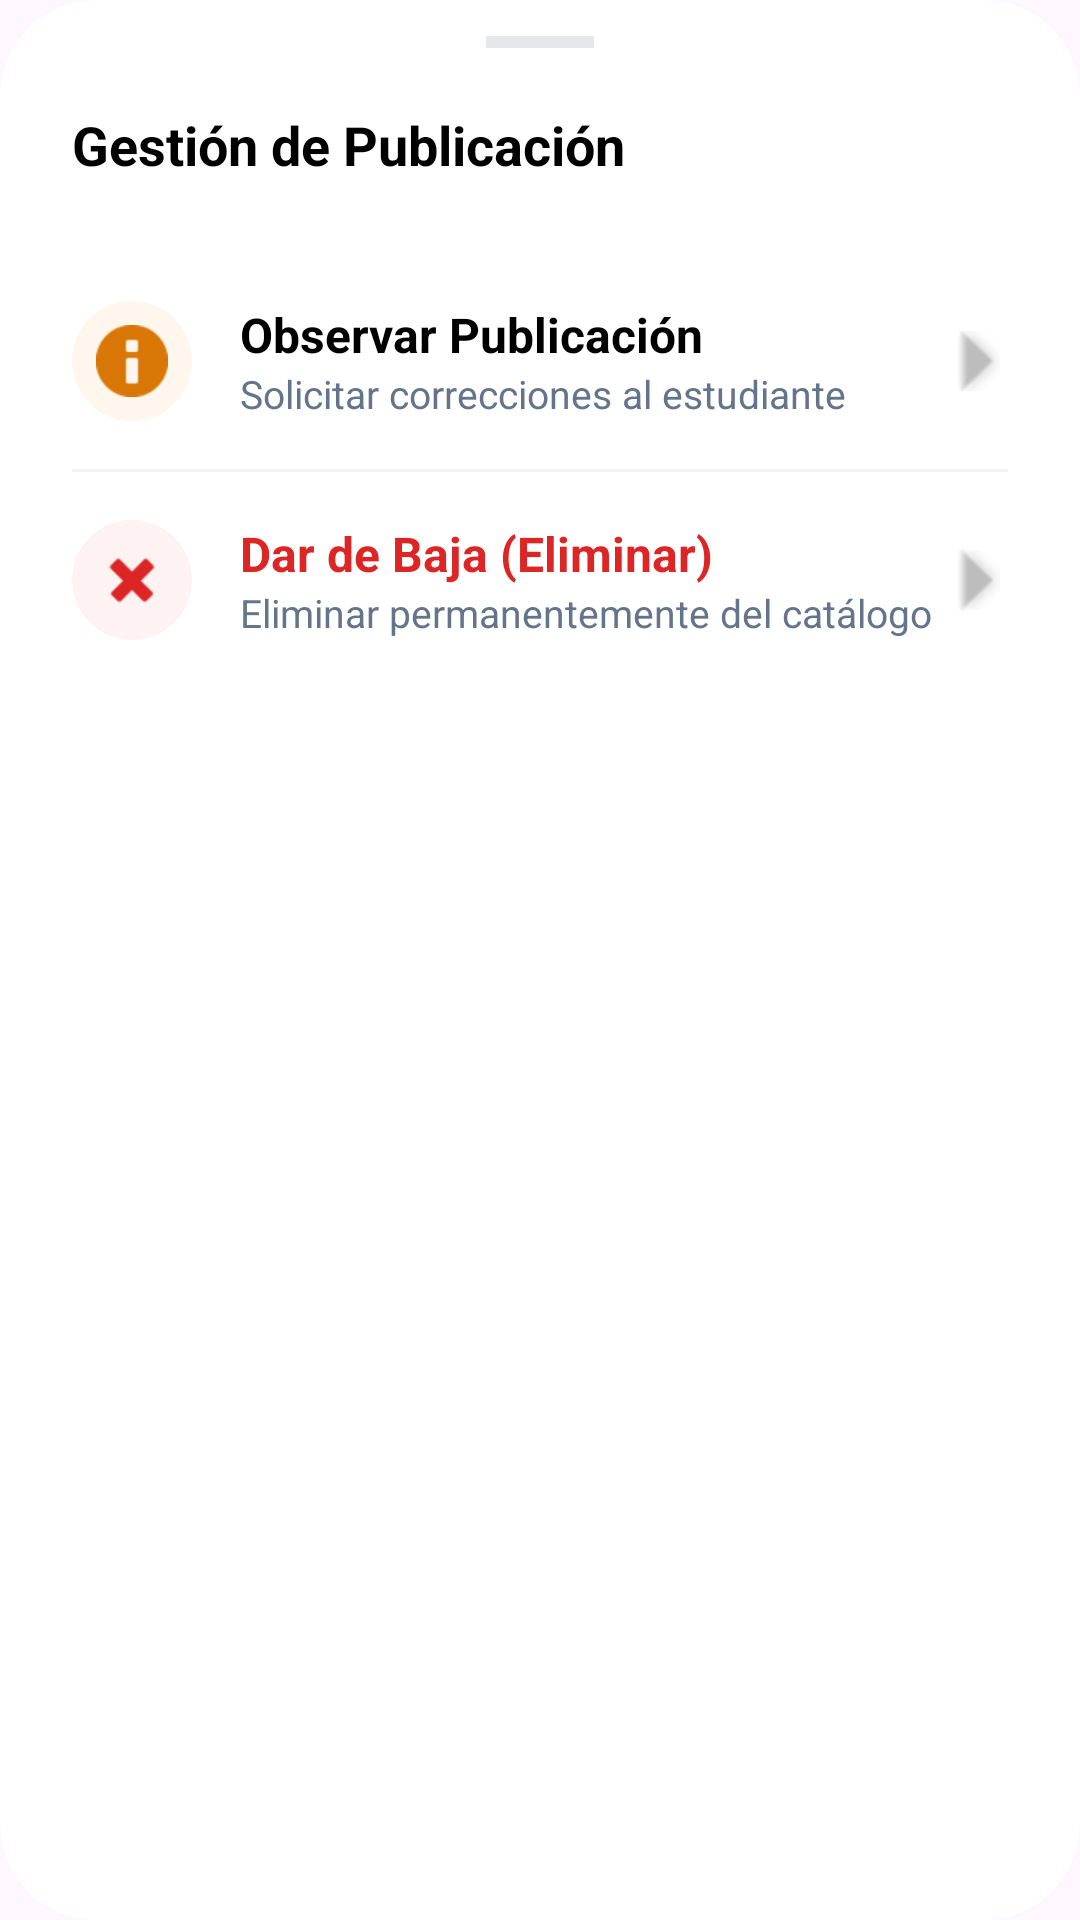

Where icons sit on this 1080px x 1920px app screen, as (x1,y1,x2,y2):
delete: (109,558,155,603)
info: (96,325,168,397)
